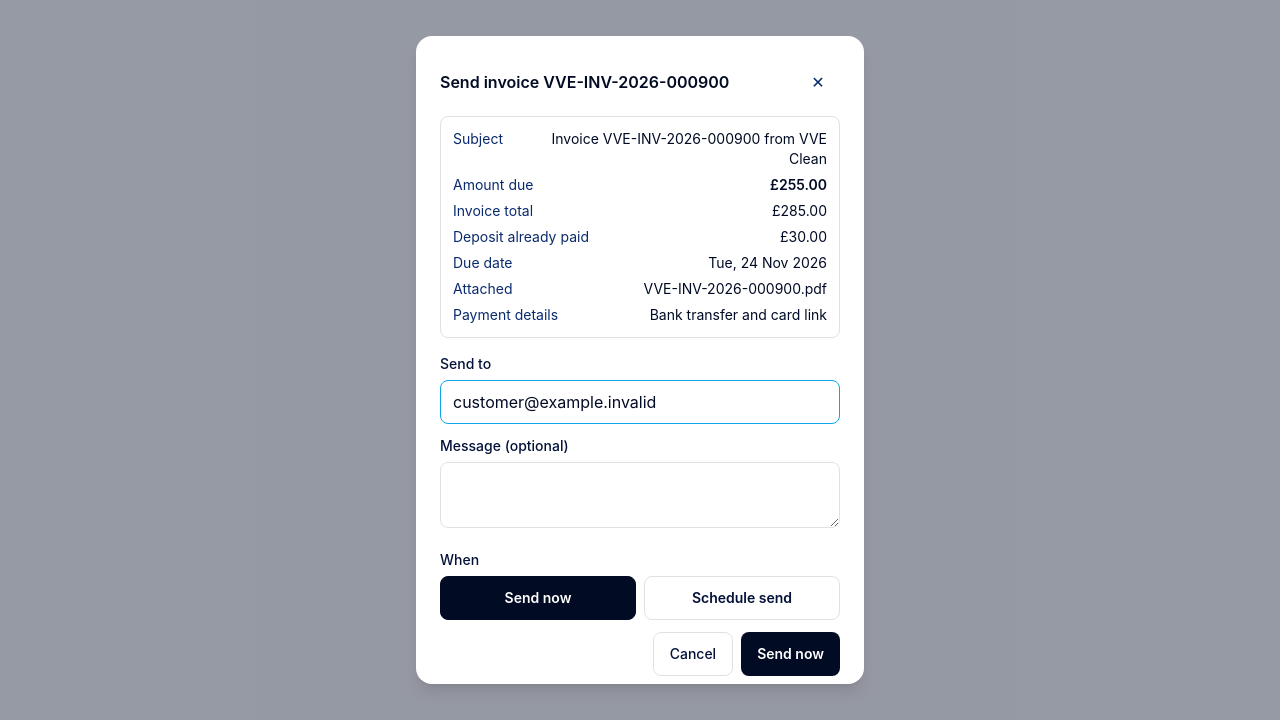
SendInvoiceSheet › reuses the same request id when the owner tries again after a lost connection
Later steps or results of the test are not shown.
Click the button "Send now" at (791, 654), box [741,632,840,676]
(page scrolled)
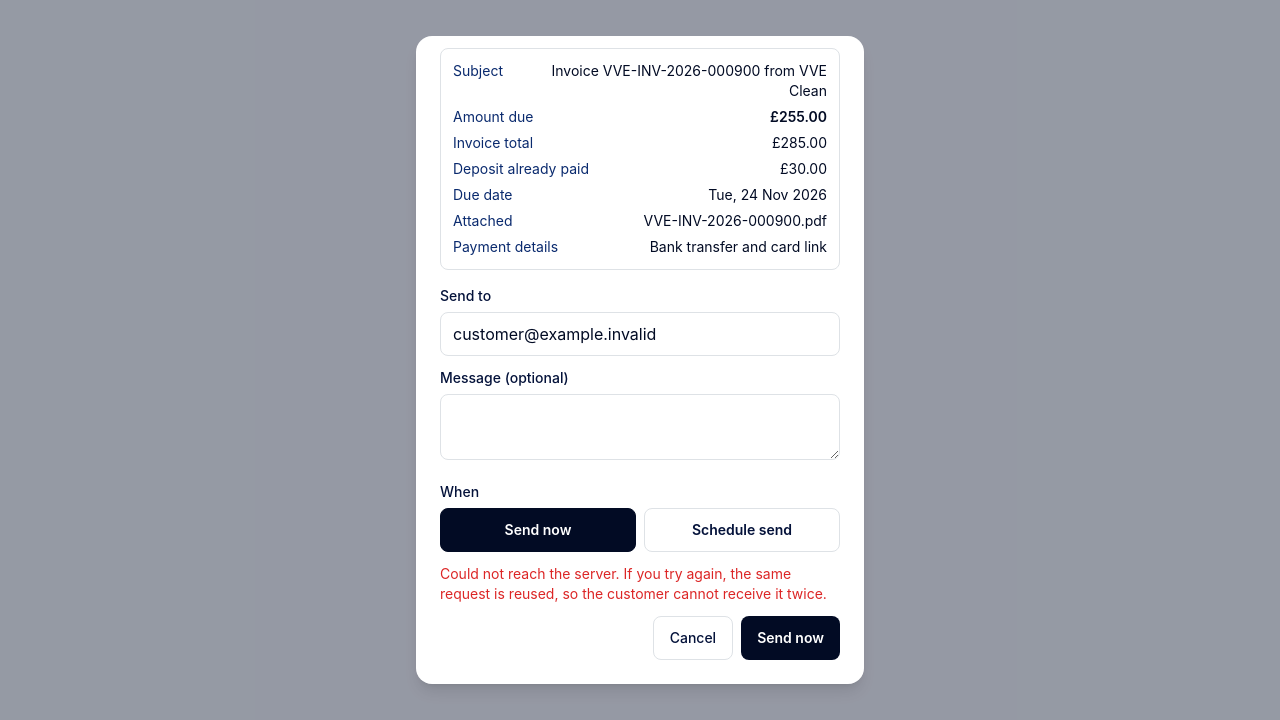
Expected: the message shows "cannot receive it twice", [440,565,827,602]
